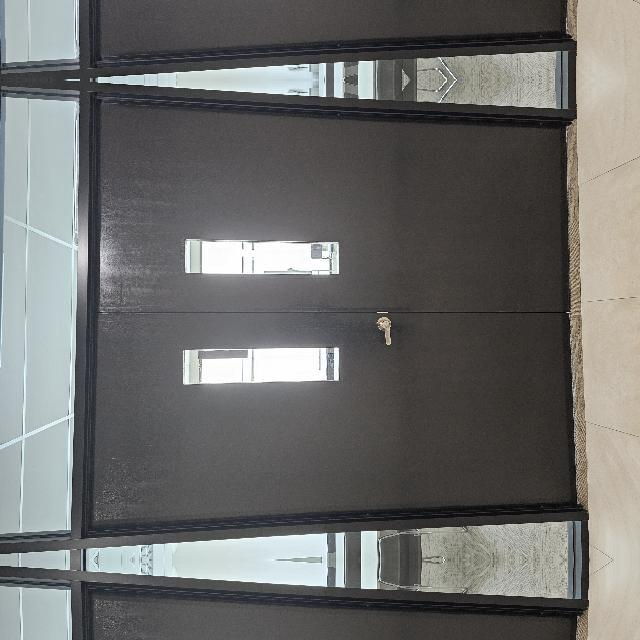door: (20, 159, 468, 640), (20, 461, 468, 640)
